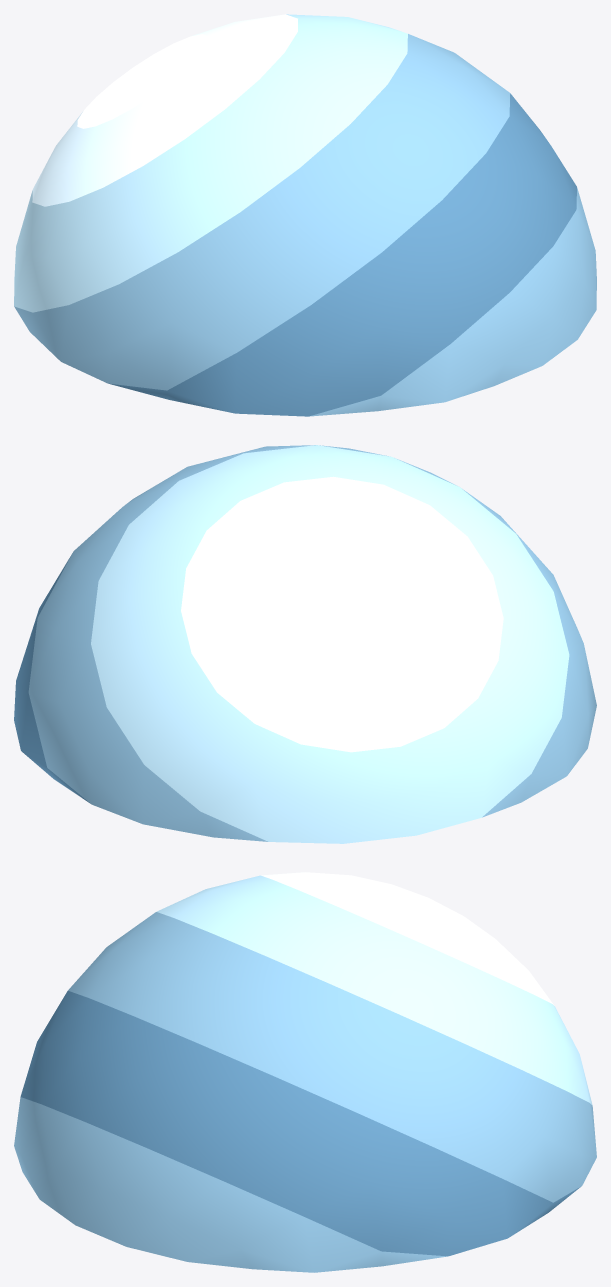
Rendered from shot_special_ball_127.glb.
3 views of the same model, one above another, from view 1: azimuth 30°, elevation 25°; view 2: azimuth 150°, elevation 25°; view 3: azimuth 270°, elevation 25° (orthographic).
Visible parts, largest first — view 1: shot_special_ball_127_ball; view 2: shot_special_ball_127_ball; view 3: shot_special_ball_127_ball.
Boxes of the visible parts, x1,y1,x2,y2 form: shot_special_ball_127_ball: (14, 14, 596, 416); shot_special_ball_127_ball: (14, 445, 596, 843); shot_special_ball_127_ball: (14, 872, 596, 1272).
Bounding box in the file's own units: 10.58 × 4.96 × 10.58.
